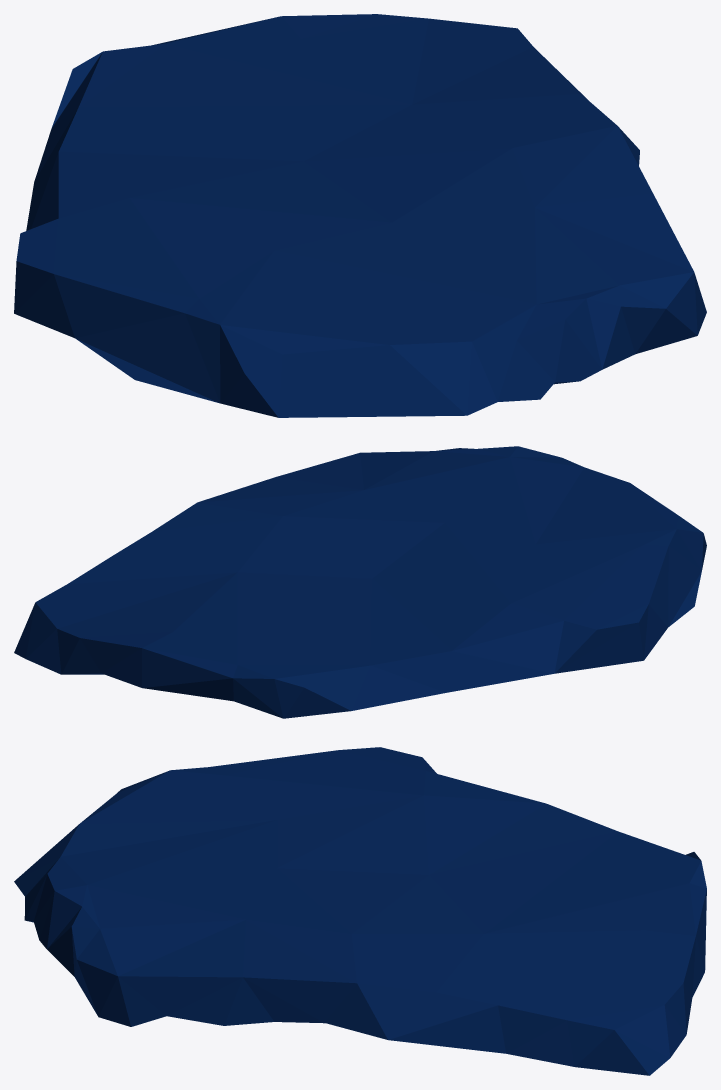
The model's file is Cave_stone_15.glb.
3 views of the same model, one above another, from view 1: azimuth 30°, elevation 25°; view 2: azimuth 150°, elevation 25°; view 3: azimuth 270°, elevation 25° (orthographic). The views are drawn at different scales.
Parts seen in each view (by area): view 1: Cave_stone_15; view 2: Cave_stone_15; view 3: Cave_stone_15.
Boxes of the visible parts, left/top/right/bottom form: Cave_stone_15: left=14, top=14, right=706, bottom=417; Cave_stone_15: left=14, top=446, right=706, bottom=718; Cave_stone_15: left=14, top=747, right=706, bottom=1075.
Size of the model in its own units: 6.83 by 0.8906 by 7.55.
